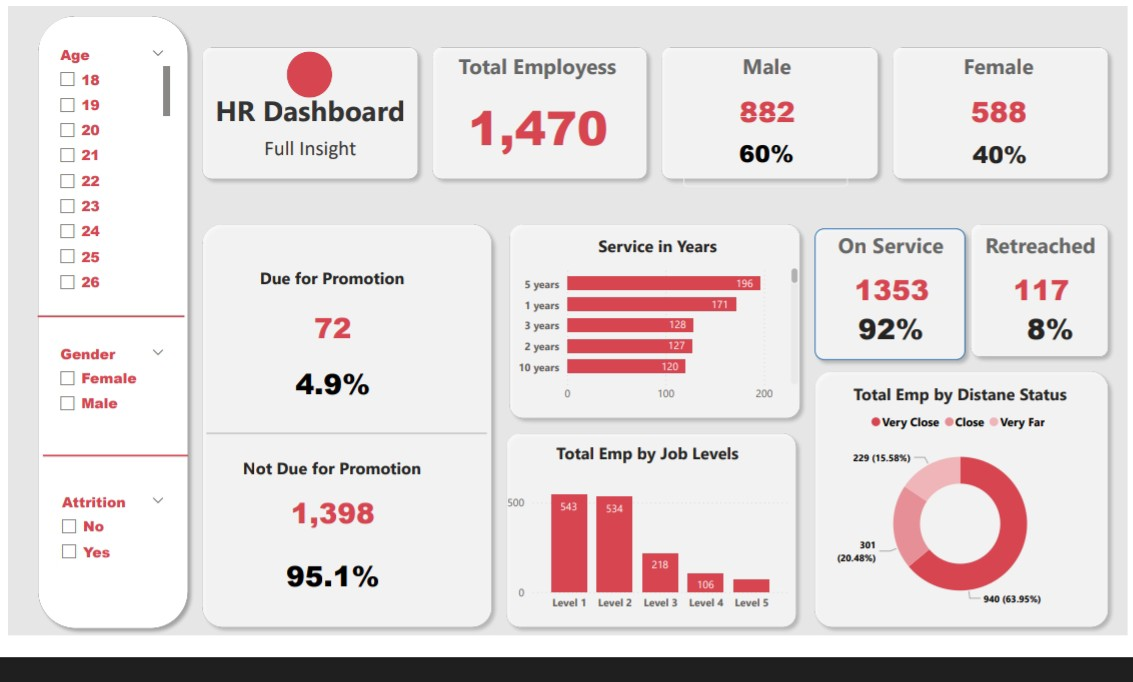

What the dashboard file says about the page in this screenshot:
{"tool":"powerbi","page":{"name":"Overview","canvas":[1280,720],"ordinal":0},"visuals":[{"type":"shape","box":[26.5,1.9,187.1,718.1],"z":0},{"type":"shape","box":[213.5,37.9,263.5,168.1],"z":1000},{"type":"shape","box":[477,37.9,263.5,168.1],"z":2000},{"type":"shape","box":[740.4,37.9,263.5,168.1],"z":3000},{"type":"shape","box":[1003.9,37.9,263.5,168.1],"z":4000},{"type":"shape","box":[213.5,240.8,348.3,478.5],"z":5000},{"type":"shape","box":[566.3,240.8,348.3,239.2],"z":6000},{"type":"shape","box":[561.8,480,348.3,239.2],"z":7000},{"type":"shape","box":[914.6,245.3,189.3,168.1],"z":8000},{"type":"shape","box":[1093.3,240.8,174.1,168.1],"z":9000},{"type":"shape","box":[914.6,408.8,352.8,310.4],"z":10000},{"type":"textbox","box":[230.2,90.9,231.7,62.1],"z":11000},{"type":"textbox","box":[230.2,142.3,231.7,45.4],"z":12000},{"type":"shape","box":[319.5,51.5,51.5,53],"z":13000},{"type":"cardVisual","title":"Total Employess","fields":{"Data":["All Measures.Total Emp"]},"box":[490.6,51.5,230.2,136.3],"z":14000},{"type":"cardVisual","title":"Male","fields":{"Data":["All Measures.Male"]},"box":[757.1,51.5,222.6,101.5],"z":15000},{"type":"cardVisual","title":"Male","fields":{"Data":["All Measures.% Male"]},"box":[756.4,107.9,222.9,115],"z":16000},{"type":"cardVisual","title":"Female","fields":{"Data":["All Measures.Female"]},"box":[1016,51.5,234.7,101.5],"z":17000},{"type":"cardVisual","title":"Male","fields":{"Data":["All Measures.% Female"]},"box":[1016.7,133.7,234.4,64.7],"z":18000},{"type":"cardVisual","title":"Due for Promotion","fields":{"Data":["All Measures.Due for Promotion"]},"box":[240.8,298.3,260.4,110.5],"z":19000},{"type":"cardVisual","fields":{"Data":["All Measures.% Due For Promotion"]},"box":[240.8,380.1,260.4,99.9],"z":20000},{"type":"cardVisual","title":"Not Due for Promotion","fields":{"Data":["All Measures.Not Due For Promotion"]},"box":[240.8,514.8,260.4,99.9],"z":21000},{"type":"cardVisual","fields":{"Data":["All Measures.% Not Due for Promotion"]},"box":[240.8,599.6,260.4,99.9],"z":22000},{"type":"shape","box":[227.1,480,321,16.7],"z":23000},{"type":"slicer","title":"Service Year","fields":{"Values":["HR Analytics Data.Attrition"]},"box":[49.1,549.9,141.7,100.2],"z":24000},{"type":"columnChart","title":"Total Emp by Job Levels","fields":{"Category":["HR Analytics Data.Job Levels"],"Y":["All Measures.Total Emp"]},"box":[566.3,498.2,331.6,201.4],"z":25000},{"type":"cardVisual","title":"On Service","fields":{"Data":["All Measures.On Service"]},"box":[928.2,255.9,165,98.4],"z":26000},{"type":"cardVisual","title":"Male","fields":{"Data":["All Measures.% On Service"]},"box":[943.3,322.5,160.5,86.3],"z":27000},{"type":"cardVisual","title":"Retreached","fields":{"Data":["All Measures.Will be Retreanched"]},"box":[1099.3,255.9,165,98.4],"z":28000},{"type":"cardVisual","title":"Male","fields":{"Data":["All Measures.% Will be Retreanched"]},"box":[1135.7,327.1,131.7,78.7],"z":29000},{"type":"donutChart","fields":{"Category":["HR Analytics Data.Distane Status"],"Y":["All Measures.Total Emp"]},"box":[928.2,430,322.5,269.5],"z":30000},{"type":"slicer","fields":{"Values":["HR Analytics Data.Age"]},"box":[47.2,37.8,143.6,302.4],"z":31000},{"type":"slicer","fields":{"Values":["HR Analytics Data.Gender"]},"box":[47.2,379.8,143.6,115.3],"z":32000},{"type":"shape","box":[34,340.2,168.2,28.3],"z":33000},{"type":"shape","box":[39.7,506.5,166.3,15.1],"z":34000},{"type":"barChart","title":"Service in Years","fields":{"Category":["HR Analytics Data.Service Year"],"Y":["All Measures.Total Emp"]},"box":[578.3,260.8,330.7,200.3],"z":35000}]}

Visuals, with their boxes on the page's 1280x720 design canvas (x1, y1, x2, y2). These are canvas units, not pixel positions in the 1133x682 screenshot, which may show the page scaled, cropped or inside an application window:
shape: left=26, top=2, right=214, bottom=720
shape: left=214, top=38, right=477, bottom=206
shape: left=477, top=38, right=740, bottom=206
shape: left=740, top=38, right=1004, bottom=206
shape: left=1004, top=38, right=1267, bottom=206
shape: left=214, top=241, right=562, bottom=719
shape: left=566, top=241, right=915, bottom=480
shape: left=562, top=480, right=910, bottom=719
shape: left=915, top=245, right=1104, bottom=413
shape: left=1093, top=241, right=1267, bottom=409
shape: left=915, top=409, right=1267, bottom=719
textbox: left=230, top=91, right=462, bottom=153
textbox: left=230, top=142, right=462, bottom=188
shape: left=320, top=52, right=371, bottom=104
"Total Employess" cardVisual: left=491, top=52, right=721, bottom=188
"Male" cardVisual: left=757, top=52, right=980, bottom=153
"Male" cardVisual: left=756, top=108, right=979, bottom=223
"Female" cardVisual: left=1016, top=52, right=1251, bottom=153
"Male" cardVisual: left=1017, top=134, right=1251, bottom=198
"Due for Promotion" cardVisual: left=241, top=298, right=501, bottom=409
cardVisual - All Measures.% Due For Promotion: left=241, top=380, right=501, bottom=480
"Not Due for Promotion" cardVisual: left=241, top=515, right=501, bottom=615
cardVisual - All Measures.% Not Due for Promotion: left=241, top=600, right=501, bottom=700
shape: left=227, top=480, right=548, bottom=497
"Service Year" slicer: left=49, top=550, right=191, bottom=650
"Total Emp by Job Levels" columnChart: left=566, top=498, right=898, bottom=700
"On Service" cardVisual: left=928, top=256, right=1093, bottom=354
"Male" cardVisual: left=943, top=322, right=1104, bottom=409
"Retreached" cardVisual: left=1099, top=256, right=1264, bottom=354
"Male" cardVisual: left=1136, top=327, right=1267, bottom=406
donutChart - HR Analytics Data.Distane Status x All Measures.Total Emp: left=928, top=430, right=1251, bottom=700
slicer - HR Analytics Data.Age: left=47, top=38, right=191, bottom=340
slicer - HR Analytics Data.Gender: left=47, top=380, right=191, bottom=495
shape: left=34, top=340, right=202, bottom=368
shape: left=40, top=506, right=206, bottom=522
"Service in Years" barChart: left=578, top=261, right=909, bottom=461
